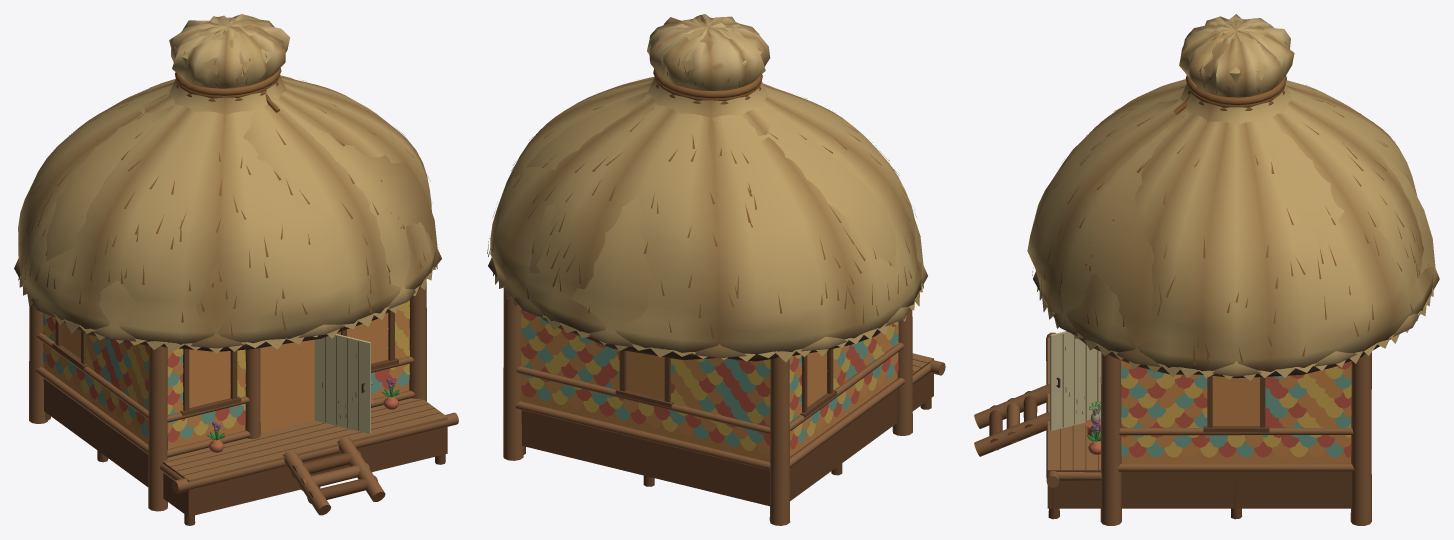
Rendered from hut_warm.glb.
The picture shows the model from 3 angles, left to right: view 1: azimuth 30°, elevation 25°; view 2: azimuth 150°, elevation 25°; view 3: azimuth 270°, elevation 25°; orthographic projection. The views are drawn at different scales.
Parts seen in each view (by area): view 1: hut_warm, hut_warm_far; view 2: hut_warm, hut_warm_far; view 3: hut_warm, hut_warm_far.
Boxes of the visible parts, x1,y1,x2,y2 form: hut_warm: (18,14,458,525); hut_warm_far: (14,17,447,516); hut_warm: (487,14,945,525); hut_warm_far: (488,18,933,506); hut_warm: (974,14,1433,525); hut_warm_far: (1033,19,1439,508).
Bounding box in the file's own units: 8.73 × 8.9 × 8.79.
